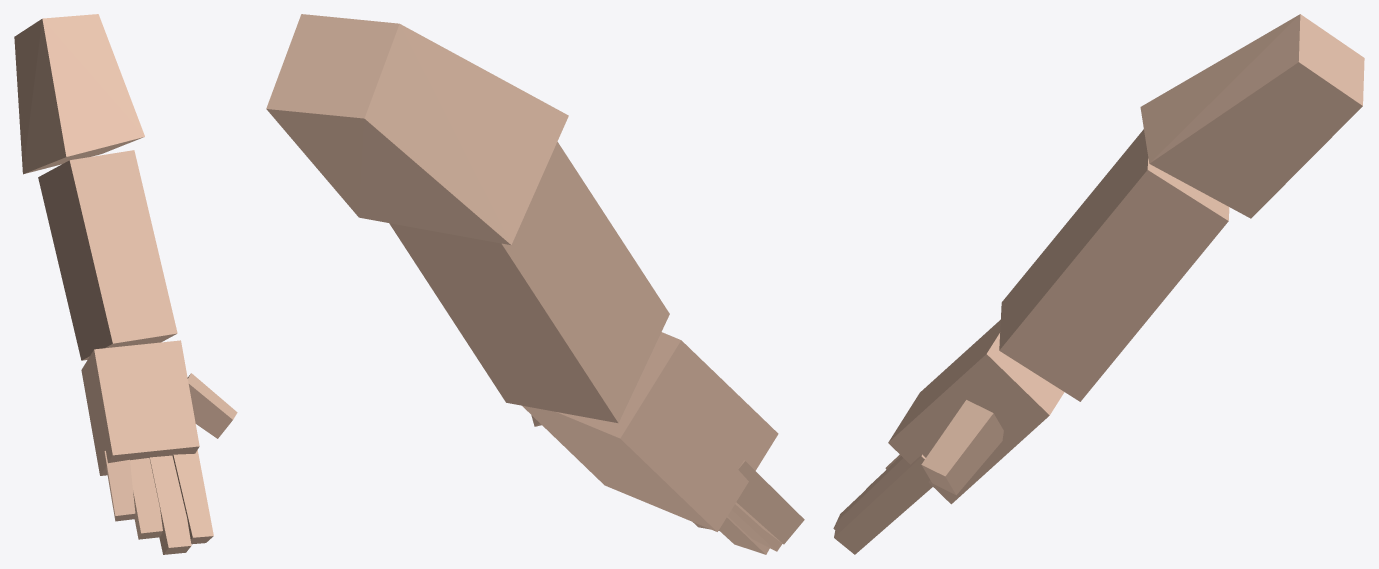
Rendered from playerRightArm.obj.
3 renders of one model, left to right at view 1: azimuth 30°, elevation 25°; view 2: azimuth 150°, elevation 25°; view 3: azimuth 270°, elevation 25°, orthographic. The views are drawn at different scales.
Parts seen in each view (by area): view 1: Simple_Thumb.R; view 2: Simple_Thumb.R; view 3: Simple_Thumb.R.
Part boxes in pixels (left/top/right/bottom): Simple_Thumb.R: left=14, top=14, right=237, bottom=554; Simple_Thumb.R: left=266, top=14, right=804, bottom=554; Simple_Thumb.R: left=833, top=14, right=1364, bottom=554.
Size of the model in its own units: 0.3066 by 0.8512 by 0.7469.
